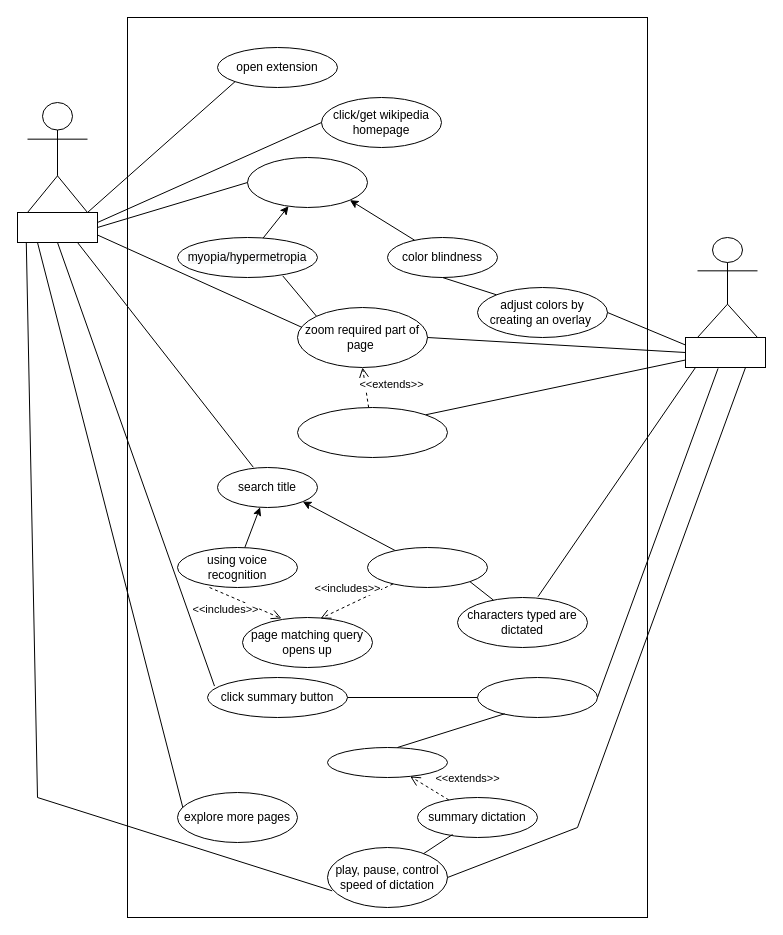
The diagram is 783 pixels wide and 935 high, and some of its shapes have lost their labels. Here are the shapes that lost their labels. From the top down, the centre of each, then its label:
the point at 57,157: User
the point at 307,182: select visual impairment options
the point at 727,287: System
the point at 372,432: control magnitude, shape and size of zoom
the point at 427,567: using keyboard shortcuts
the point at 537,697: show/generate summary
the point at 387,762: new tab opens
